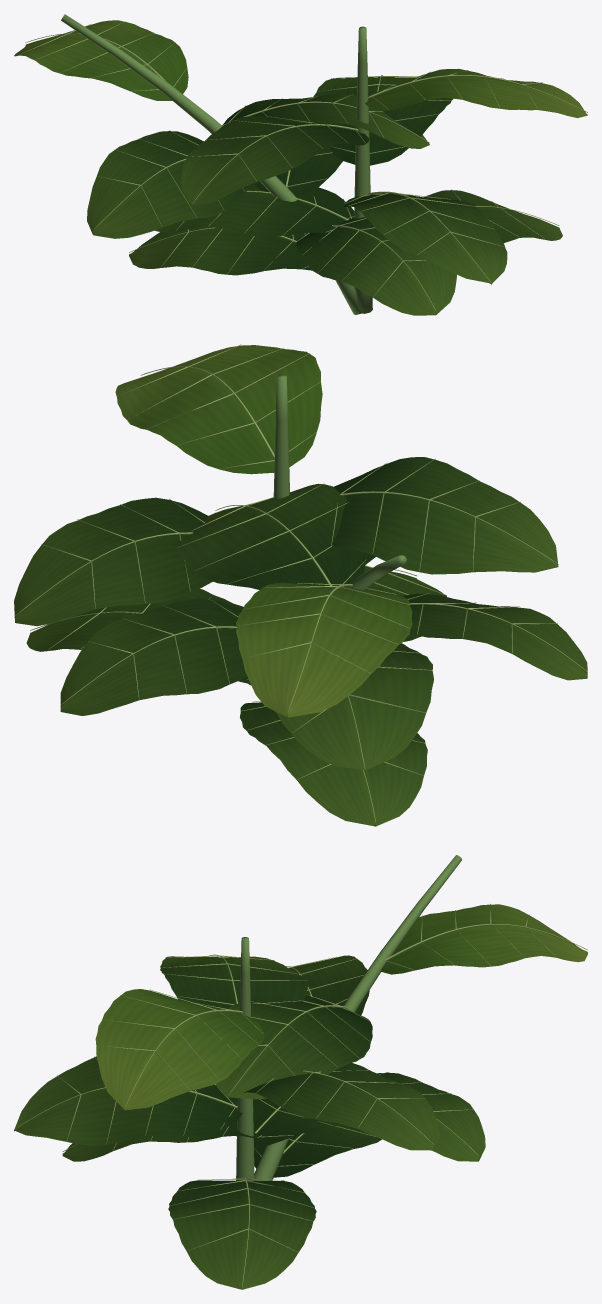
File: daisy-05.glb
The picture shows the model from 3 angles, top to bottom: view 1: azimuth 30°, elevation 25°; view 2: azimuth 150°, elevation 25°; view 3: azimuth 270°, elevation 25°; orthographic projection. The views are drawn at different scales.
Visible parts, largest first — view 1: daisy_stage_05_leaf_veins.008, daisy_stage_05_young_leaf.008, daisy_stage_05_raised_midveins.008, daisy_stage_05_stem_fibres.008; view 2: daisy_stage_05_leaf_veins.008, daisy_stage_05_young_leaf.008, daisy_stage_05_raised_midveins.008, daisy_stage_05_stem_fibres.008; view 3: daisy_stage_05_leaf_veins.008, daisy_stage_05_young_leaf.008, daisy_stage_05_raised_midveins.008, daisy_stage_05_stem_fibres.008.
Boxes of the visible parts, left/top/right/bottom form: daisy_stage_05_leaf_veins.008: left=87, top=77, right=562, bottom=315; daisy_stage_05_young_leaf.008: left=14, top=20, right=587, bottom=118; daisy_stage_05_raised_midveins.008: left=19, top=21, right=587, bottom=310; daisy_stage_05_stem_fibres.008: left=61, top=14, right=372, bottom=314; daisy_stage_05_leaf_veins.008: left=14, top=457, right=587, bottom=826; daisy_stage_05_young_leaf.008: left=115, top=345, right=412, bottom=717; daisy_stage_05_raised_midveins.008: left=15, top=344, right=587, bottom=822; daisy_stage_05_stem_fibres.008: left=273, top=374, right=406, bottom=590; daisy_stage_05_leaf_veins.008: left=14, top=955, right=485, bottom=1289; daisy_stage_05_young_leaf.008: left=95, top=904, right=587, bottom=1110; daisy_stage_05_raised_midveins.008: left=14, top=904, right=587, bottom=1287; daisy_stage_05_stem_fibres.008: left=236, top=855, right=461, bottom=1180.
Size of the model in its own units: 0.202 by 0.1231 by 0.2177.
4 materials, 2 textured.
